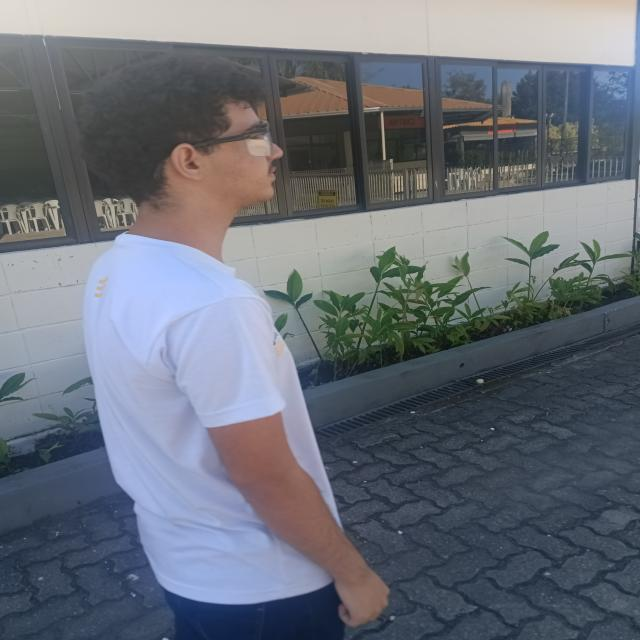oculos-epi: (185, 120, 275, 158)
